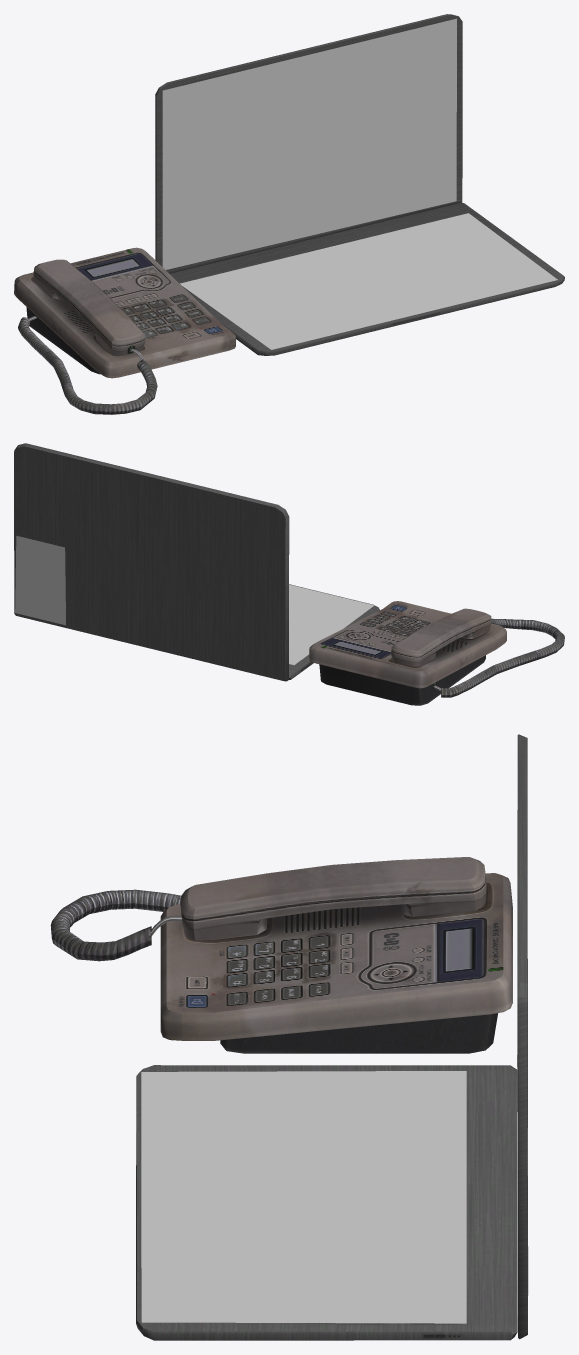
Rendered from Office_equipment.FBX.
The picture shows the model from 3 angles, top to bottom: view 1: azimuth 30°, elevation 25°; view 2: azimuth 150°, elevation 25°; view 3: azimuth 270°, elevation 25°; orthographic projection. The views are drawn at different scales.
Visible parts, largest first — view 1: Mesh_0140, Mesh_0134, Mesh_0103; view 2: Mesh_0103, Mesh_0134, Mesh_0140; view 3: Mesh_0140, Mesh_0134, Mesh_0103.
Boxes of the visible parts, x1=… form: Mesh_0140: x1=162, y1=18, x2=557, y2=349; Mesh_0134: x1=14, y1=247, x2=235, y2=414; Mesh_0103: x1=155, y1=14, x2=564, y2=355; Mesh_0103: x1=14, y1=443, x2=379, y2=681; Mesh_0134: x1=309, y1=601, x2=564, y2=705; Mesh_0140: x1=15, y1=535, x2=374, y2=665; Mesh_0140: x1=141, y1=810, x2=528, y2=1323; Mesh_0134: x1=50, y1=857, x2=512, y2=1053; Mesh_0103: x1=136, y1=734, x2=527, y2=1340.
Size of the model in its own units: 188 by 86.75 by 69.89.
